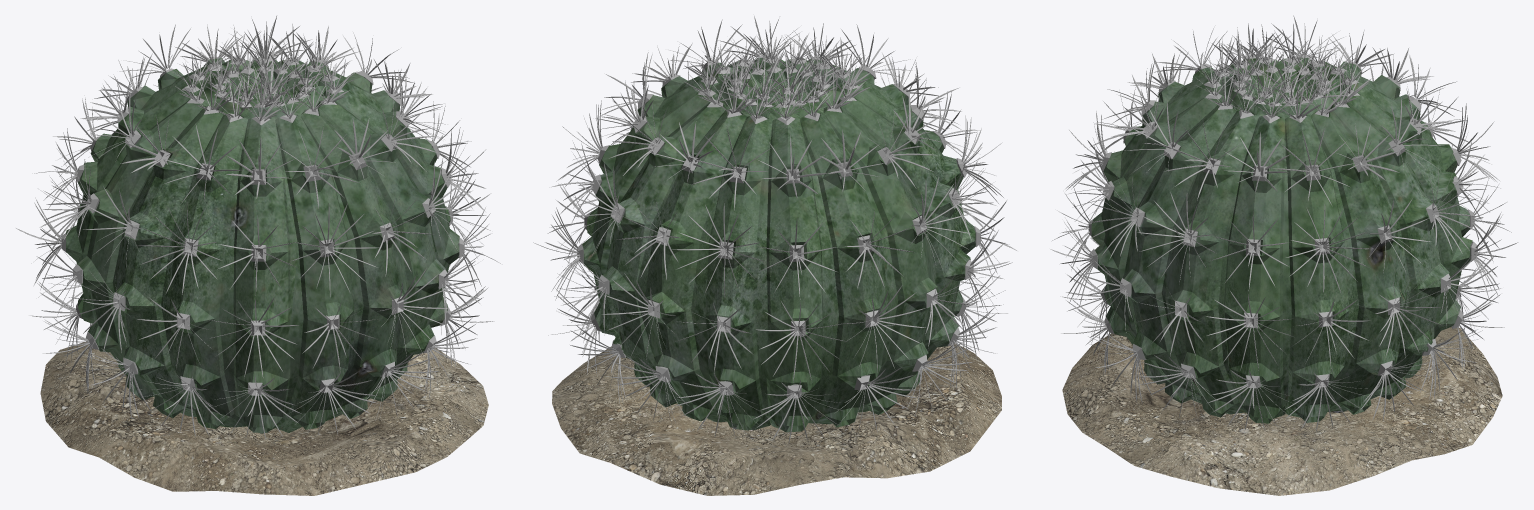
The model's file is Cactus.fbx.
3 renders of one model, left to right at view 1: azimuth 30°, elevation 25°; view 2: azimuth 150°, elevation 25°; view 3: azimuth 270°, elevation 25°, orthographic. The views are drawn at different scales.
Parts seen in each view (by area): view 1: cactus body, spines, ground1, cactus detail; view 2: cactus body, spines, ground1, cactus detail; view 3: cactus body, ground1, spines, cactus detail.
Part boxes in pixels (x1,y1,x2,y2): cactus body: (66,57,459,433); spines: (16,16,500,439); ground1: (40,341,488,495); cactus detail: (61,53,464,395); cactus body: (582,58,975,432); spines: (533,16,1016,444); ground1: (552,343,1001,495); cactus detail: (577,53,980,398); cactus body: (1091,57,1472,423); ground1: (1062,327,1502,495); spines: (1050,15,1518,431); cactus detail: (1088,54,1477,388).
Size of the model in its own units: 41.84 by 34.7 by 41.85.
